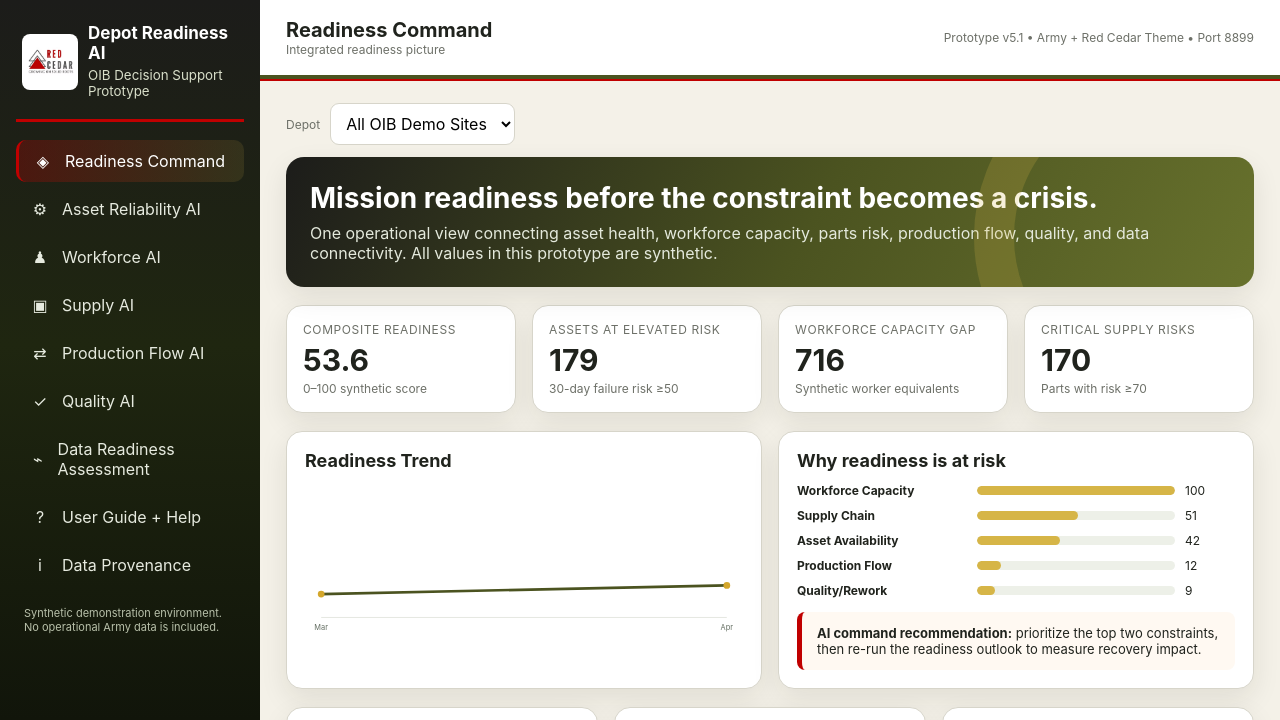
it: Depot Readiness React UI › saves an assessment through the authoritative API without browser-side scoring
Expected: the heading "Mission readiness before the constraint becomes a crisis." is shown, x1=310 y1=181 x2=1230 y2=215
Step 1. Click the button "⌁ Data Readiness Assessment" → x=130, y=459, box x1=16 y1=428 x2=244 y2=490
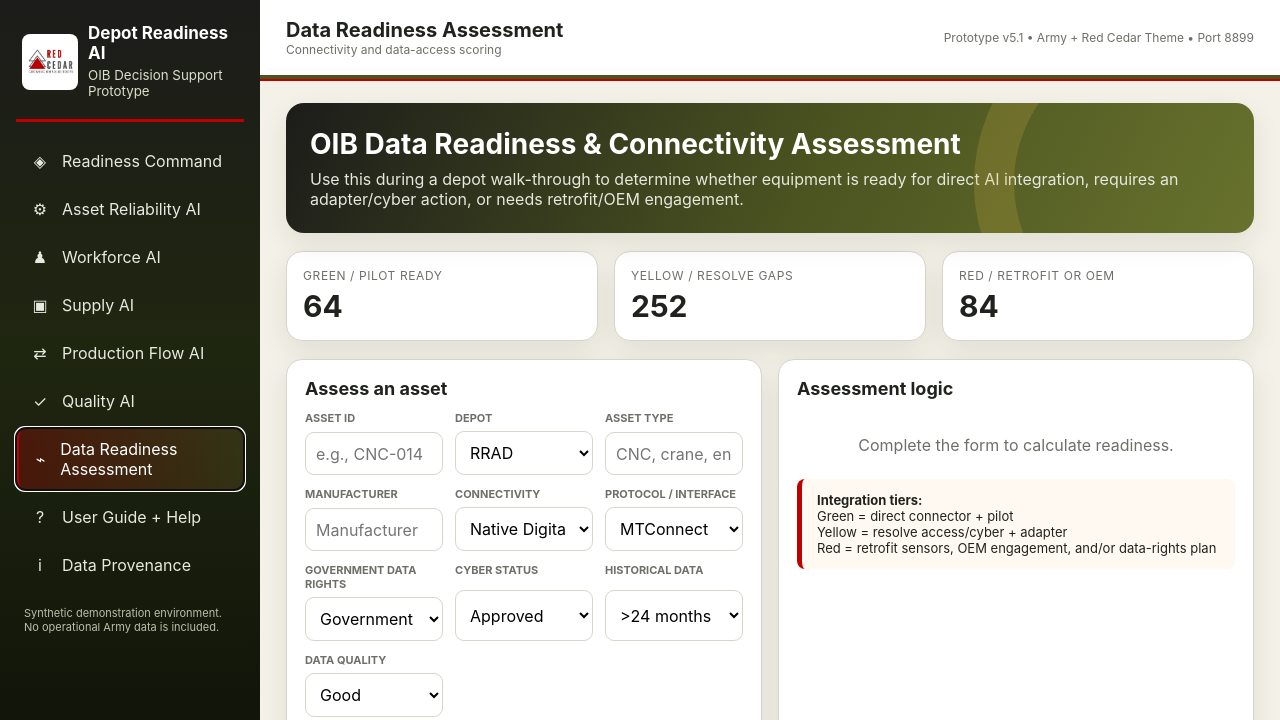
Expected: the heading "Assess an asset" is shown, x1=305 y1=378 x2=447 y2=399
Step 2. Type "CNC-999" into the field labelled "Asset ID" → x=374, y=454, box x1=305 y1=432 x2=443 y2=475
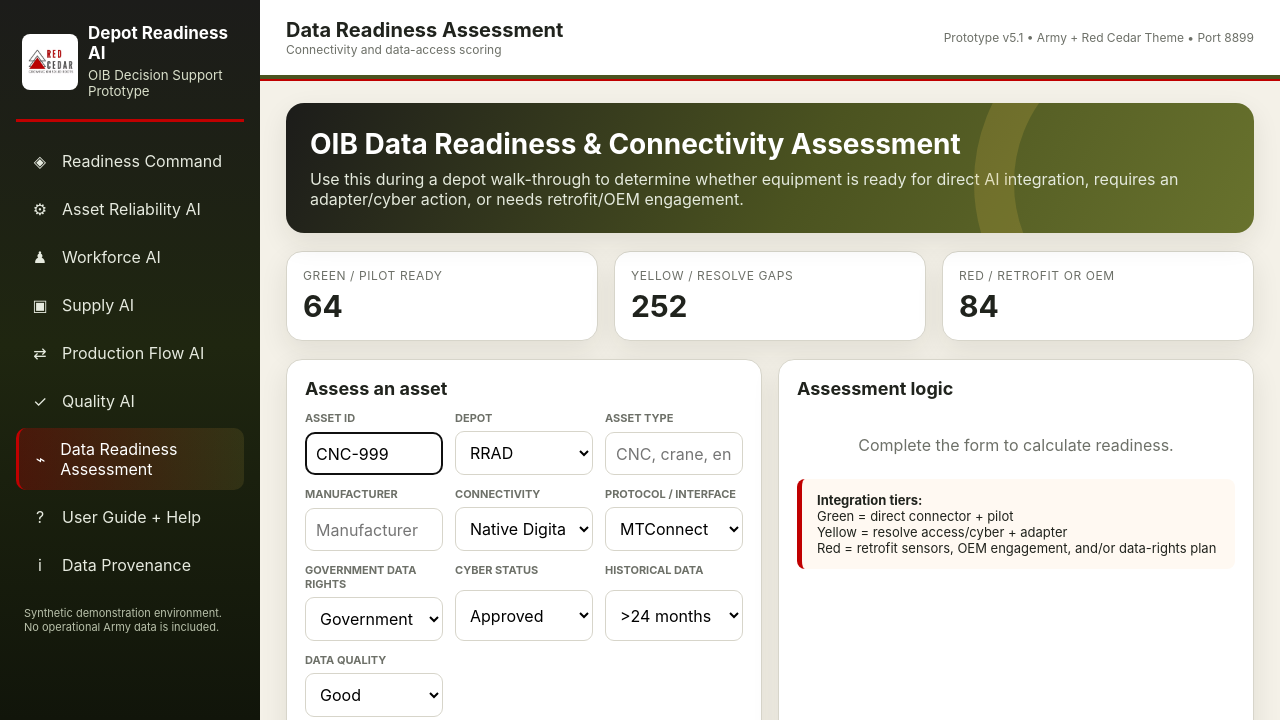
Step 3. Type "CNC" into the field labelled "Asset Type" → x=674, y=454, box x1=605 y1=432 x2=743 y2=475
(page scrolled)
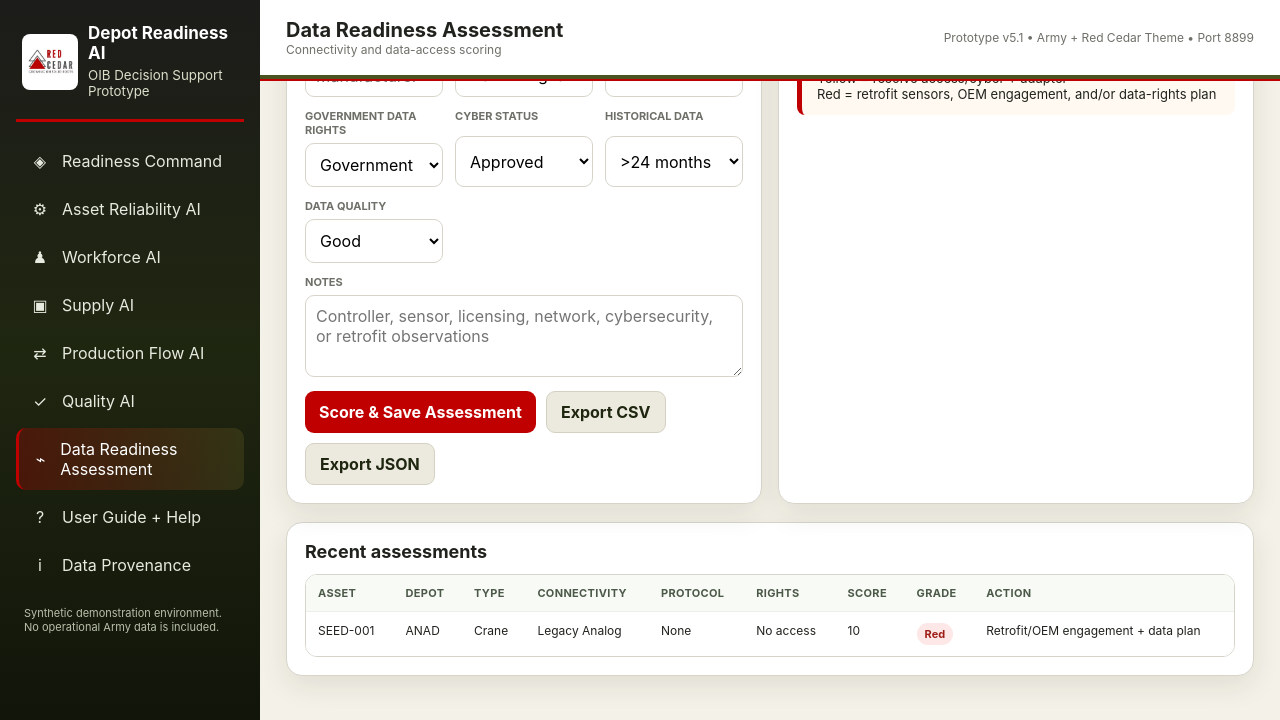
Step 4. Click the button "Score & Save Assessment" → x=420, y=412, box x1=305 y1=391 x2=536 y2=433
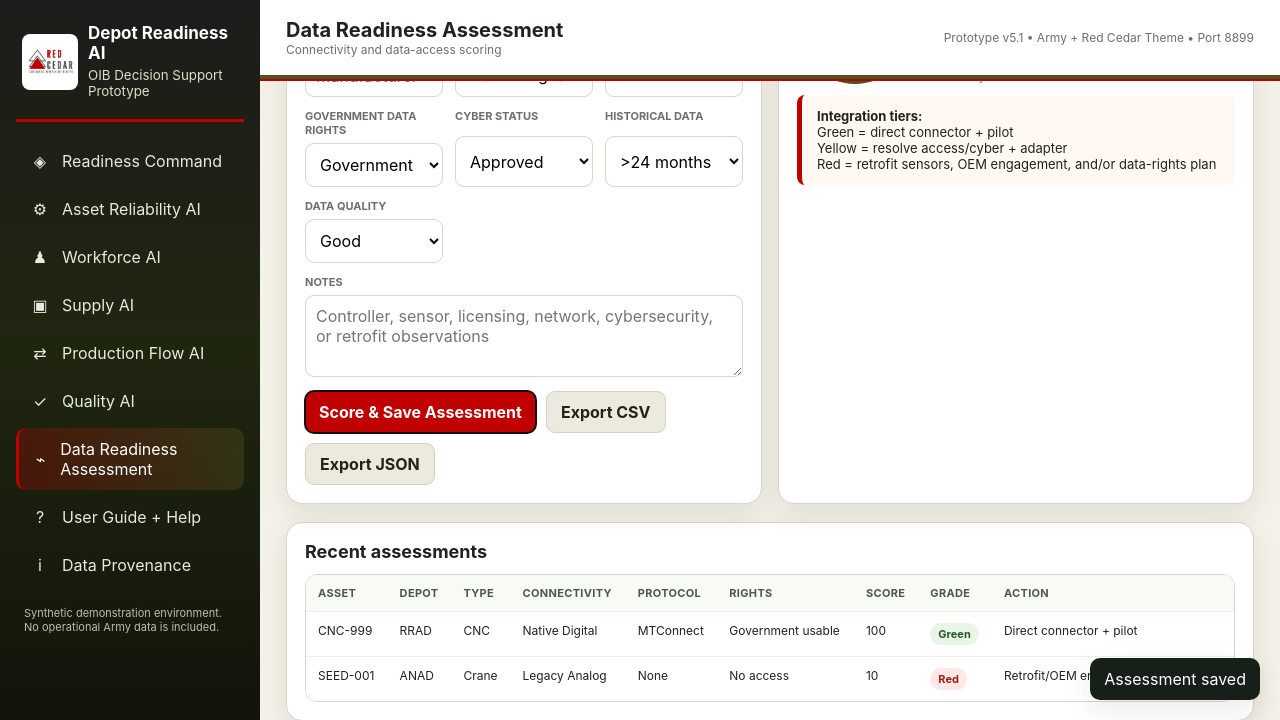
Expected: the text "Assessment saved" is shown, x1=1090 y1=658 x2=1260 y2=700
